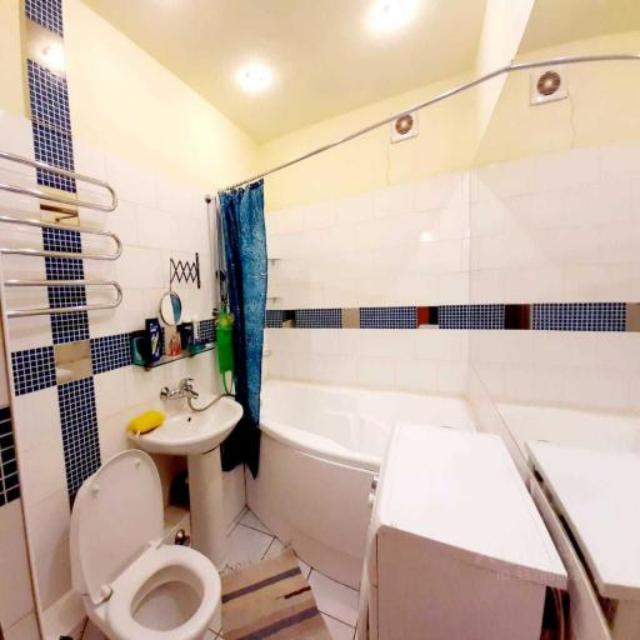Washing-Machine: (358, 423, 570, 639)
